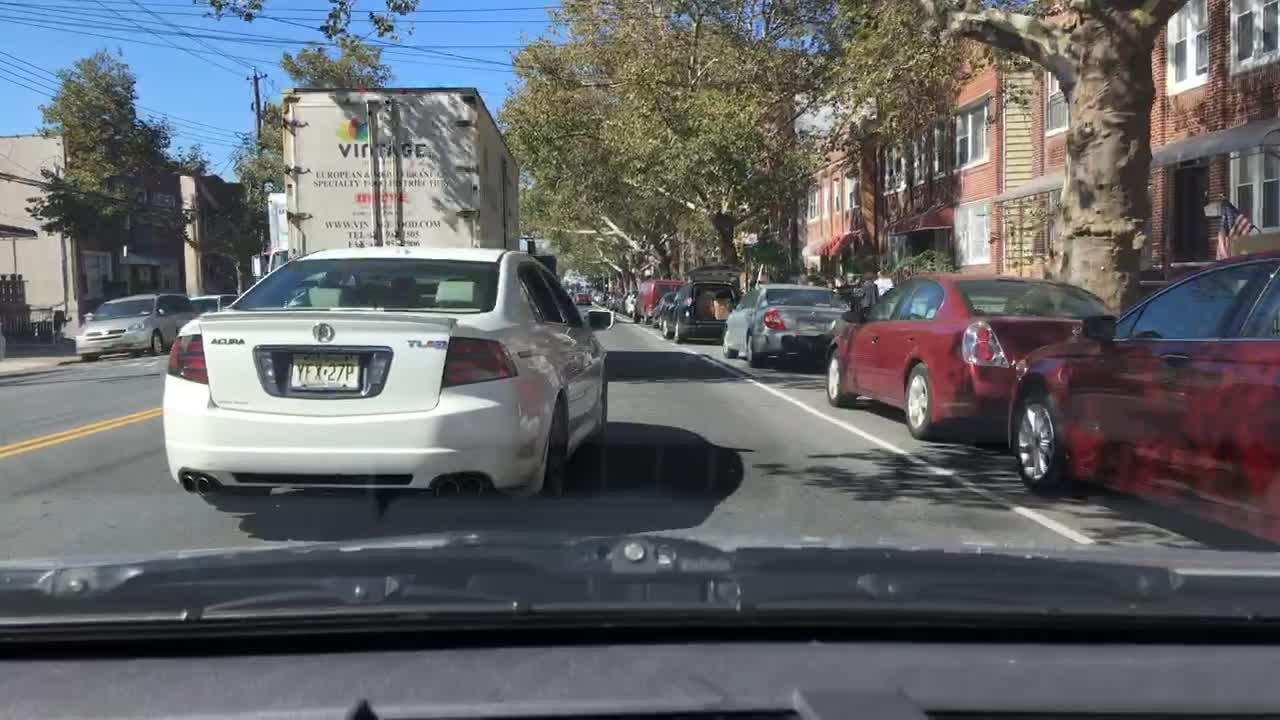acura: (309, 320, 337, 344)
